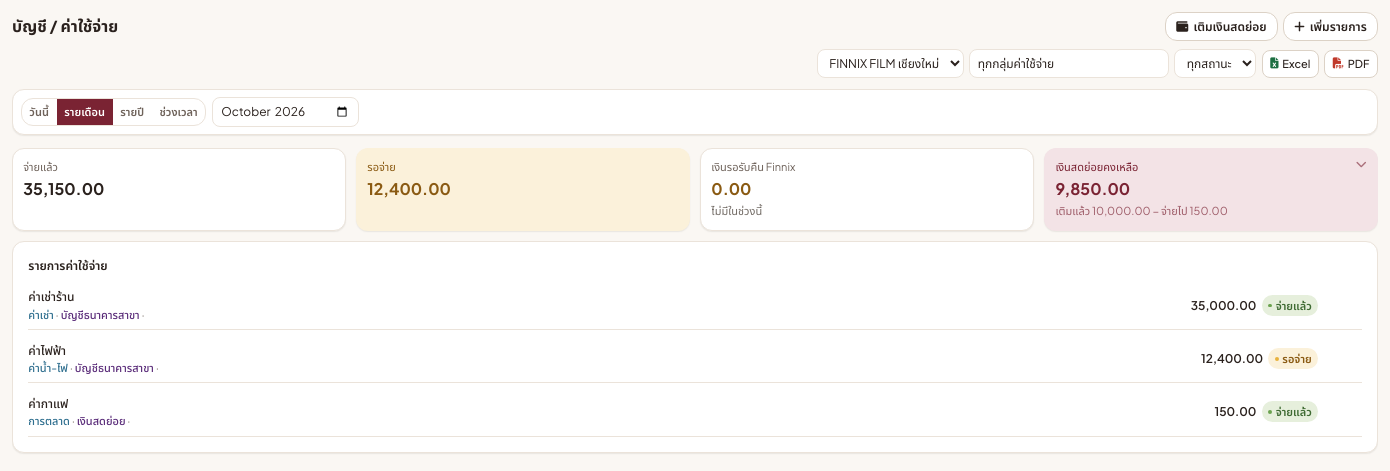
Test: AccountingModule — กรองตามกลุ่มค่าใช้จ่าย › says so when nothing matches, instead of showing an empty box
The image size is (1390, 471).
Type "ไม่มีกลุ่มนี้" into the dropdown named "กรองตามกลุ่มค่าใช้จ่าย".
click(1069, 64); type("ไม่มีกลุ่มนี้")  # box [969,49,1169,78]
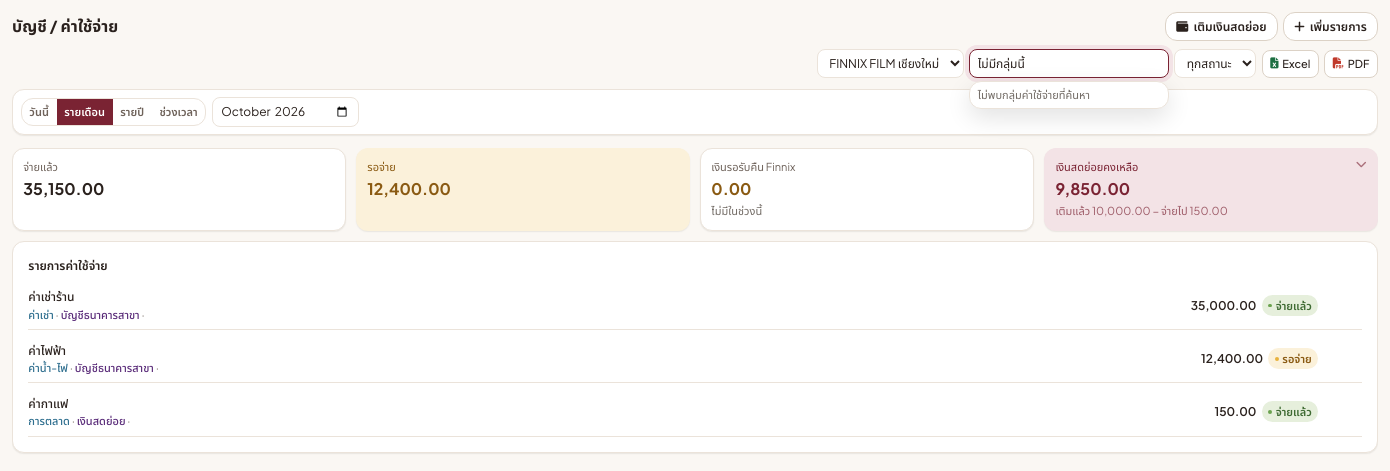
Result: the list item "ไม่พบกลุ่มค่าใช้จ่ายที่ค้นหา" is shown at [978,88,1090,101]
